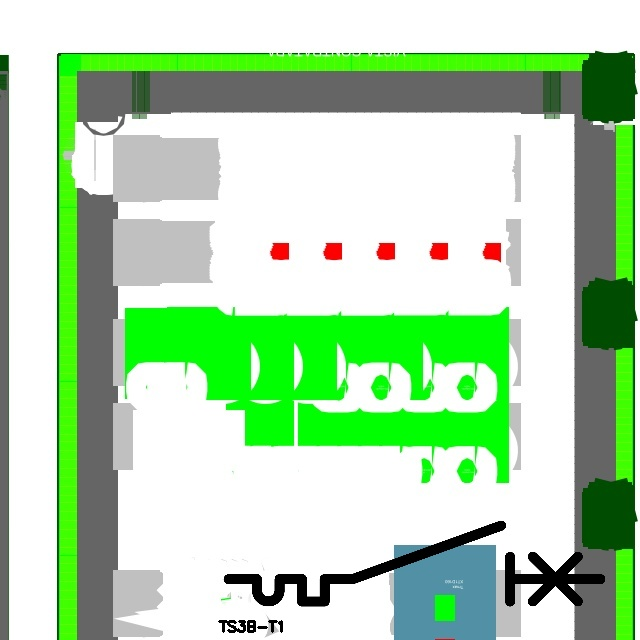interruptor_termomagnetico: (219, 516, 609, 611)
